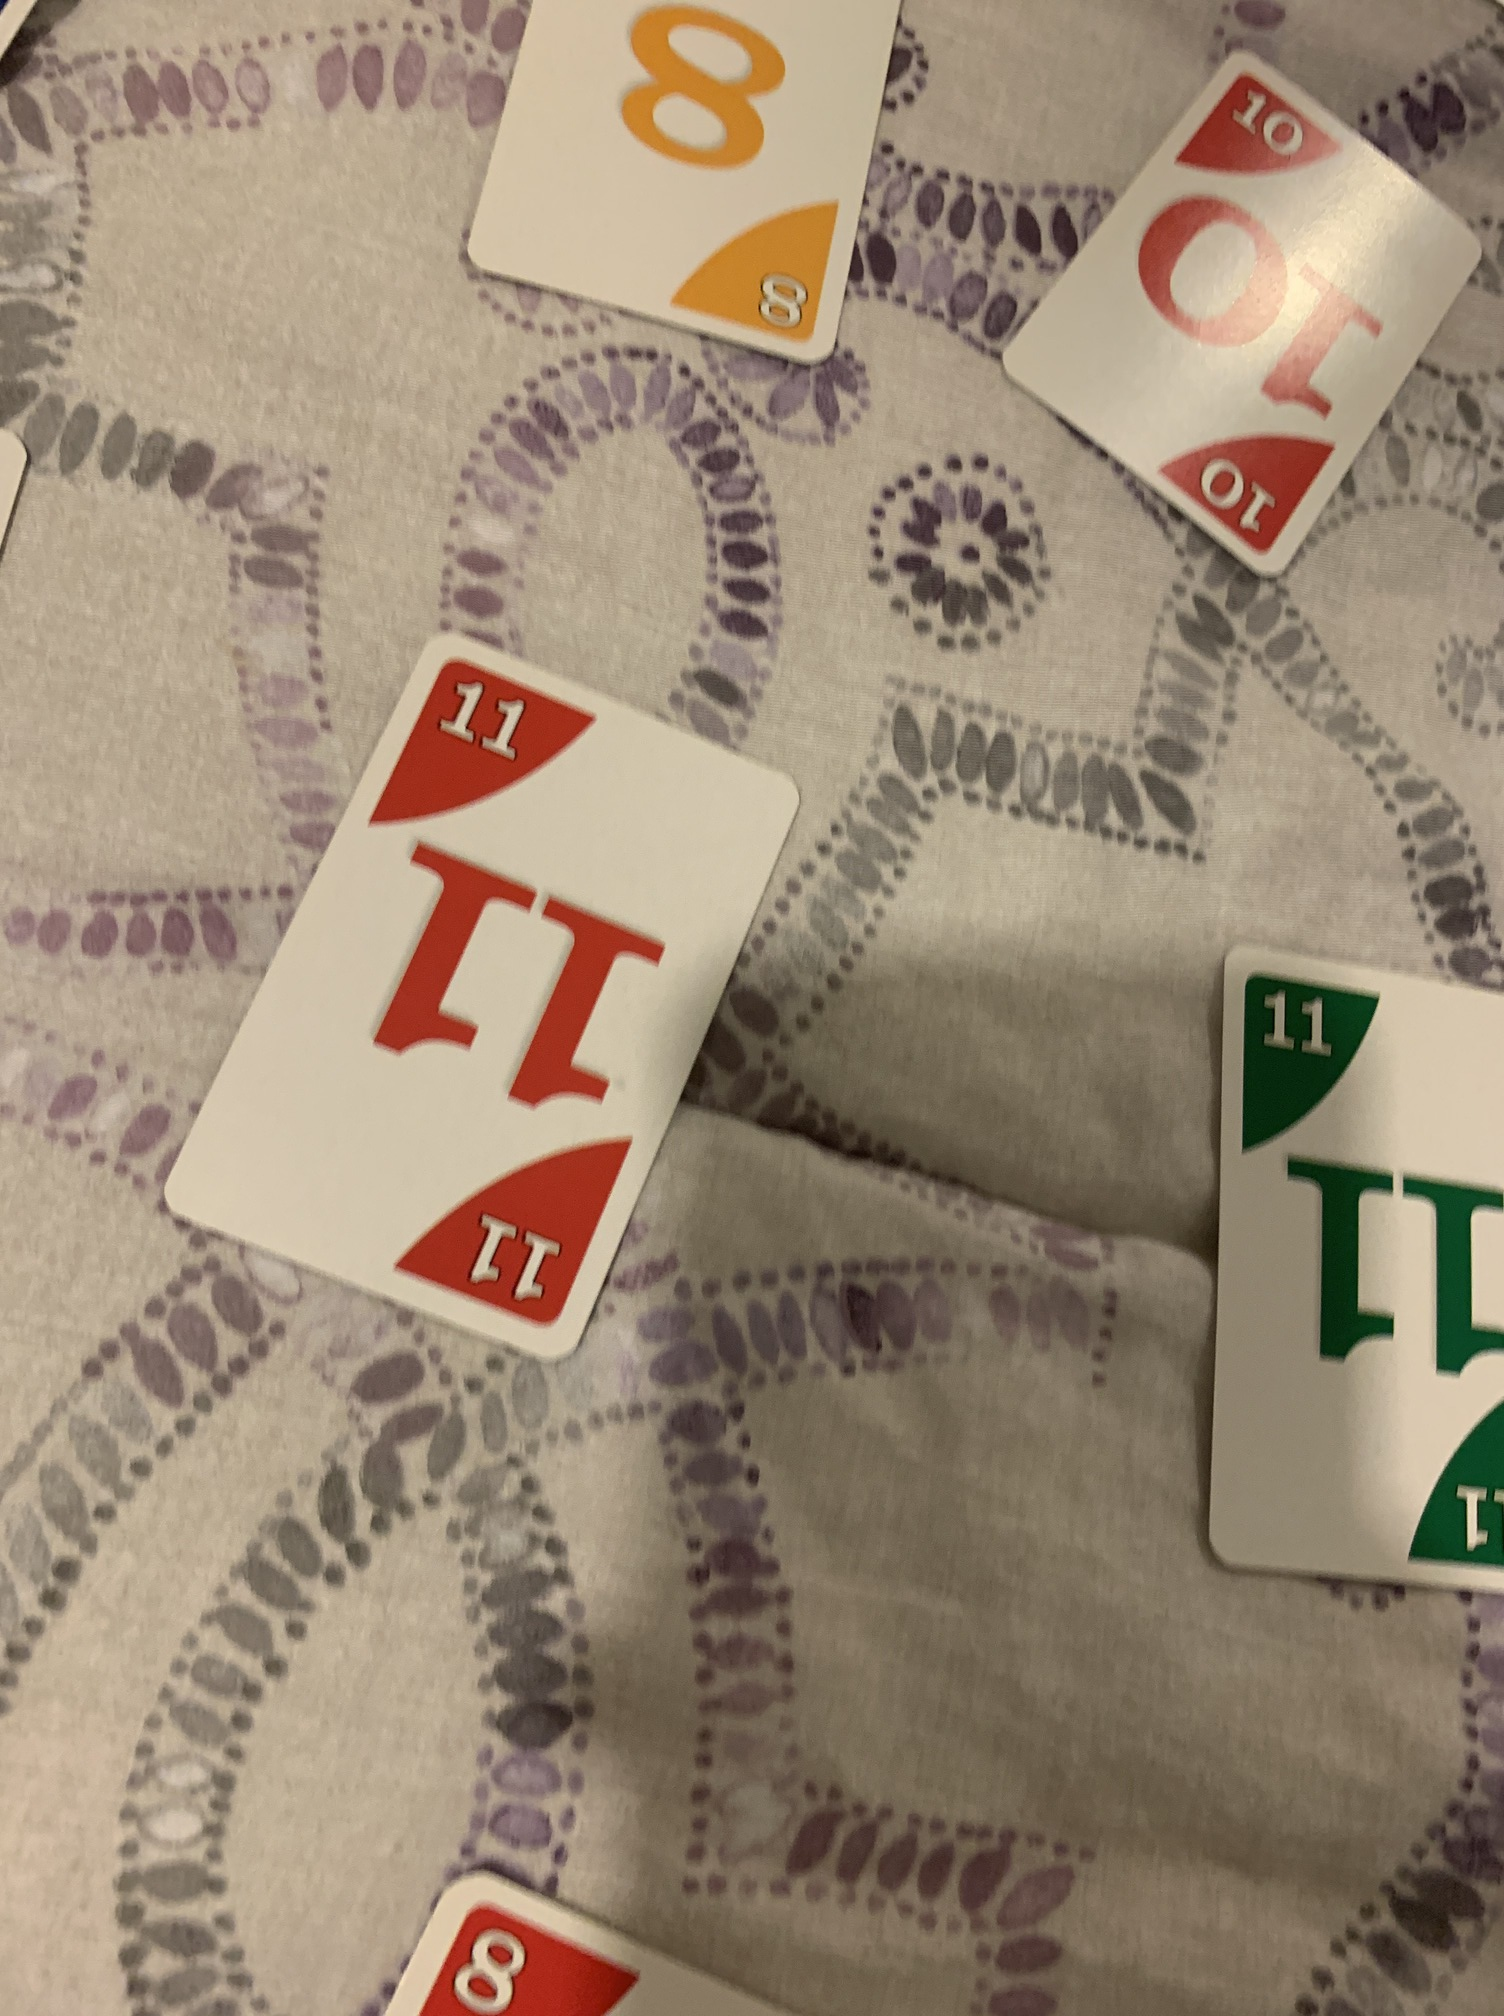eight: (453, 2, 923, 378)
eleven: (155, 630, 810, 1352), (1179, 943, 1504, 1600)
ten: (987, 46, 1487, 589)
